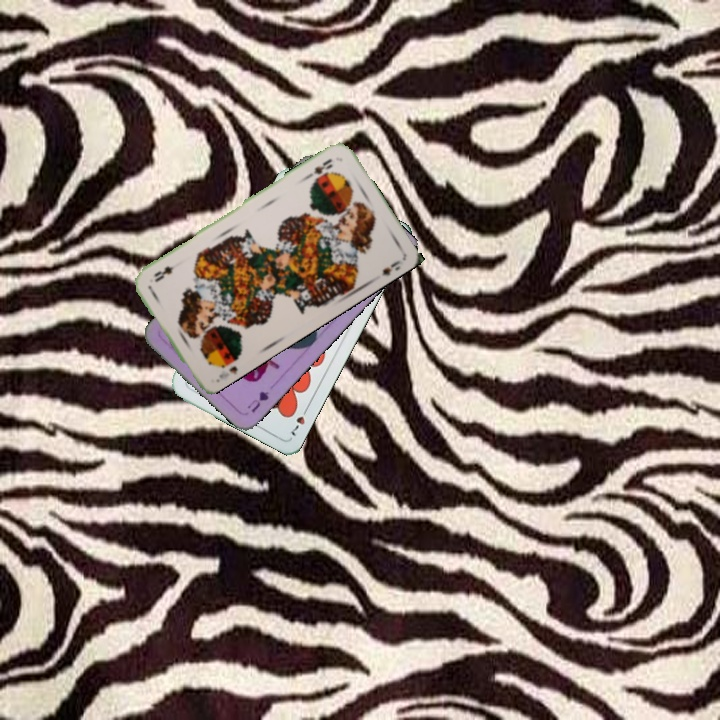GU: (243, 387, 271, 416)
H7: (287, 402, 311, 439)
SO: (211, 351, 242, 385), (303, 155, 336, 181)
